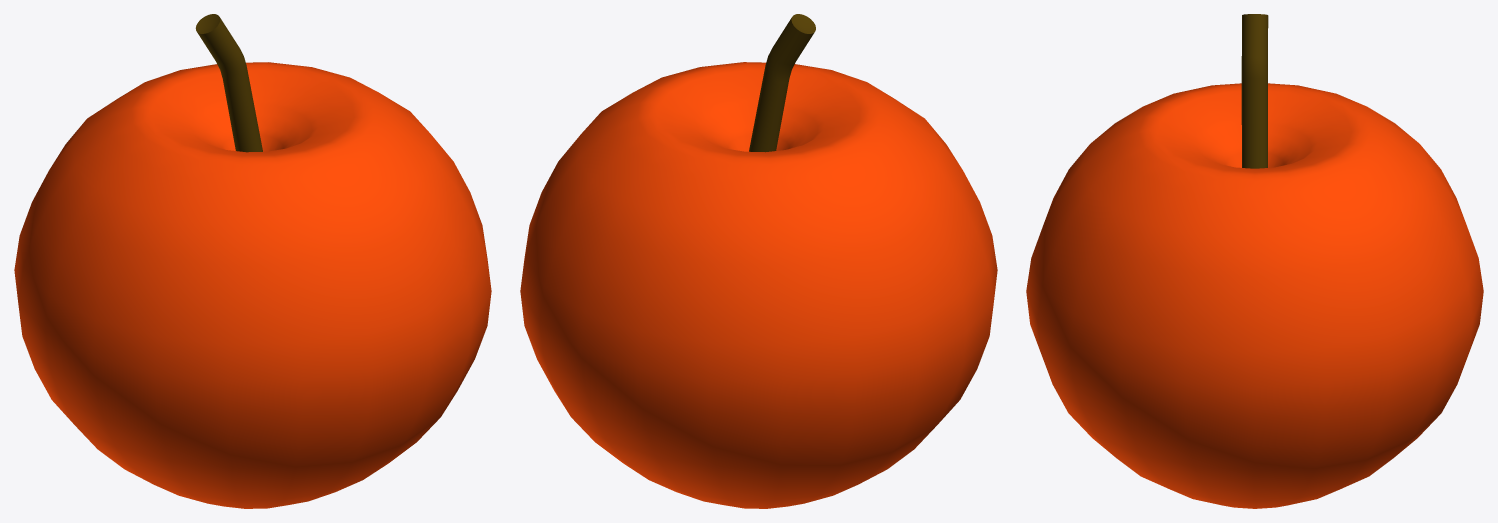
File: Apple.fbx
The picture shows the model from 3 angles, left to right: view 1: azimuth 30°, elevation 25°; view 2: azimuth 150°, elevation 25°; view 3: azimuth 270°, elevation 25°; orthographic projection. The views are drawn at different scales.
Parts seen in each view (by area): view 1: Apple; view 2: Apple; view 3: Apple.
Boxes of the visible parts, x1,y1,x2,y2 form: Apple: [14, 14, 491, 508]; Apple: [520, 14, 997, 508]; Apple: [1026, 14, 1483, 508].
Size of the model in its own units: 8.47 by 9.26 by 8.47.
